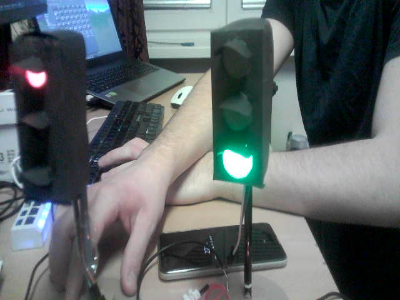trafficlight_green: (213, 32, 263, 180)
trafficlight_red: (15, 41, 60, 197)
